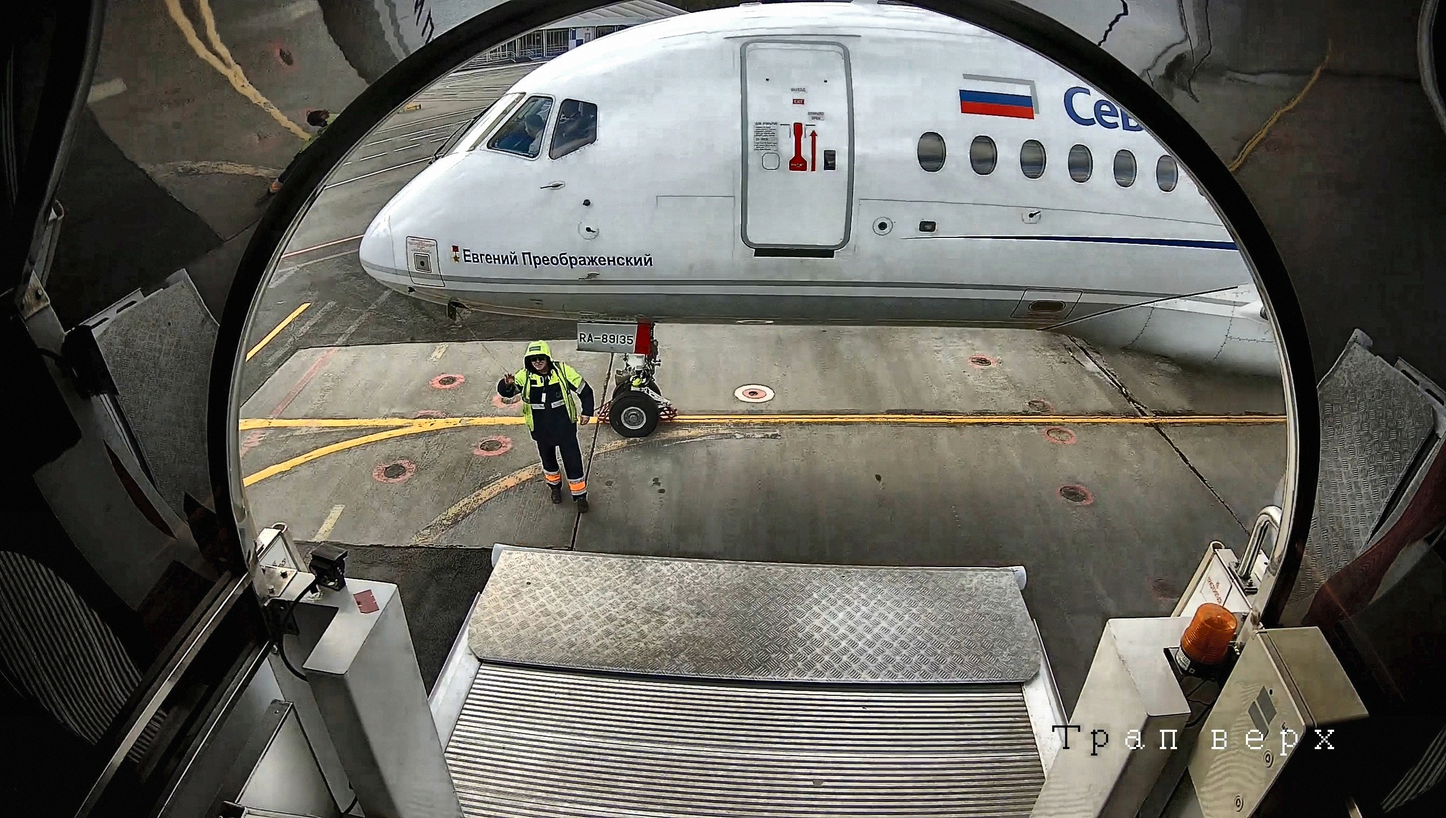boots: (656, 397, 685, 428), (590, 396, 615, 428)
wheels: (610, 389, 662, 439), (607, 370, 663, 409)
